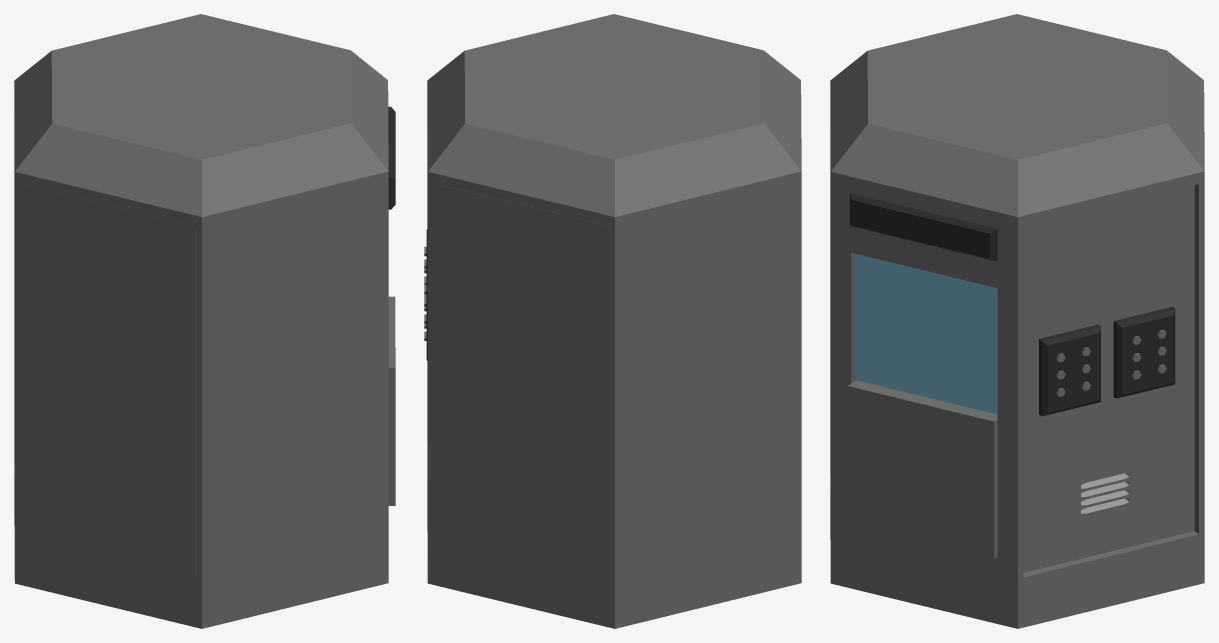
Rendered from welder.fbx.
3 renders of one model, left to right at view 1: azimuth 30°, elevation 25°; view 2: azimuth 150°, elevation 25°; view 3: azimuth 270°, elevation 25°, orthographic.
Parts seen in each view (by area): view 1: Fabricator_Body1, Welder1; view 2: Fabricator_Body1; view 3: Fabricator_Body1, Welder1.
Part boxes in pixels (x1,y1,x2,y2): Fabricator_Body1: (14,14,388,628); Welder1: (388,106,395,505); Fabricator_Body1: (427,14,801,628); Fabricator_Body1: (830,14,1204,628); Welder1: (847,193,1175,559).
Size of the model in its own units: 2.29 by 2.63 by 1.98.
